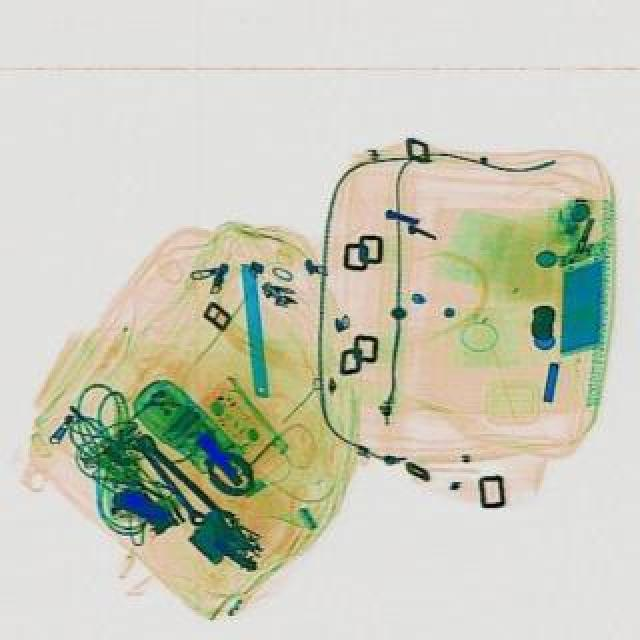scissors: (128, 432, 210, 528)
